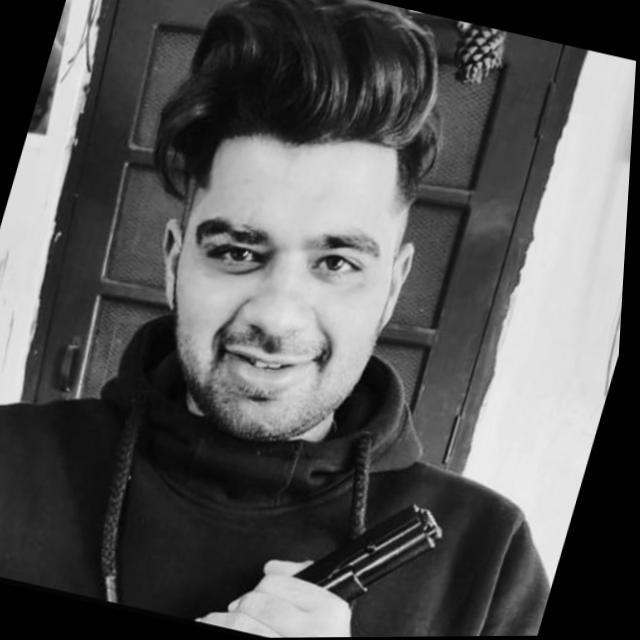weapon: (197, 452, 470, 639)
